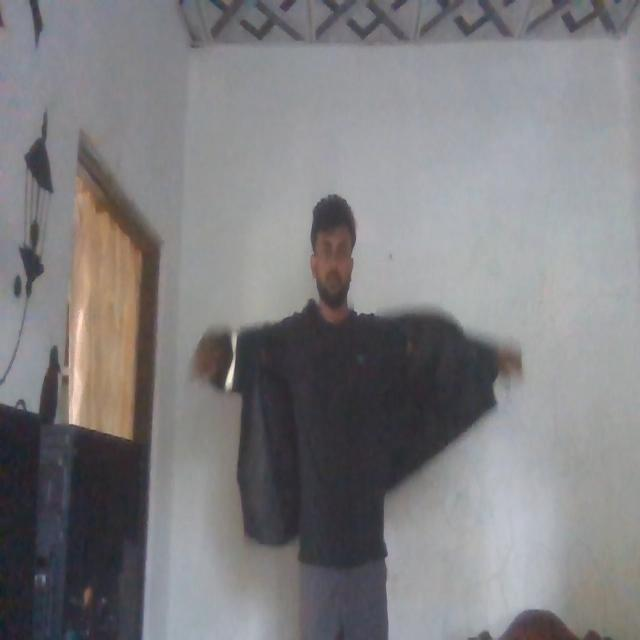Jacket_Wearer: (203, 306, 517, 554)
Person: (278, 181, 397, 640)
